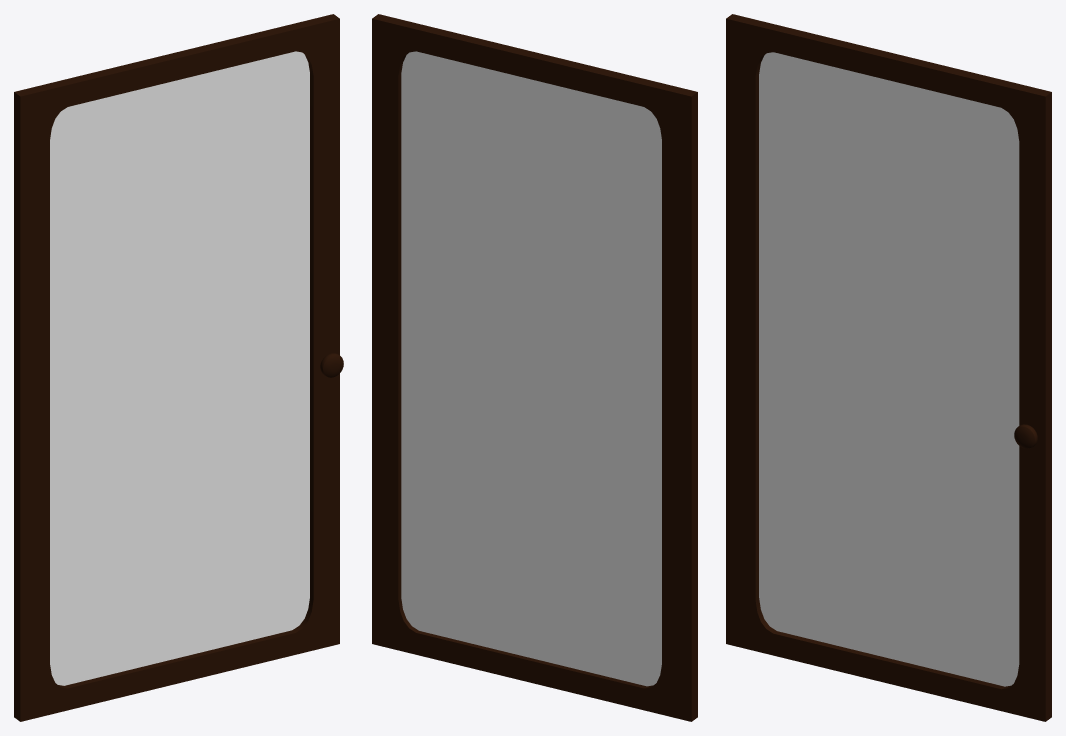
The model's file is cabinet_glass_door_left.FBX.
The picture shows the model from 3 angles, left to right: view 1: azimuth 30°, elevation 25°; view 2: azimuth 150°, elevation 25°; view 3: azimuth 330°, elevation 25°; orthographic projection.
Visible parts, largest first — view 1: cabinet_glass_door_left; view 2: cabinet_glass_door_left; view 3: cabinet_glass_door_left.
Part boxes in pixels (left/top/right/bottom): cabinet_glass_door_left: left=14, top=14, right=343, bottom=721; cabinet_glass_door_left: left=372, top=14, right=697, bottom=721; cabinet_glass_door_left: left=726, top=14, right=1051, bottom=721.
Size of the model in its own units: 34.43 by 64.4 by 2.81.
